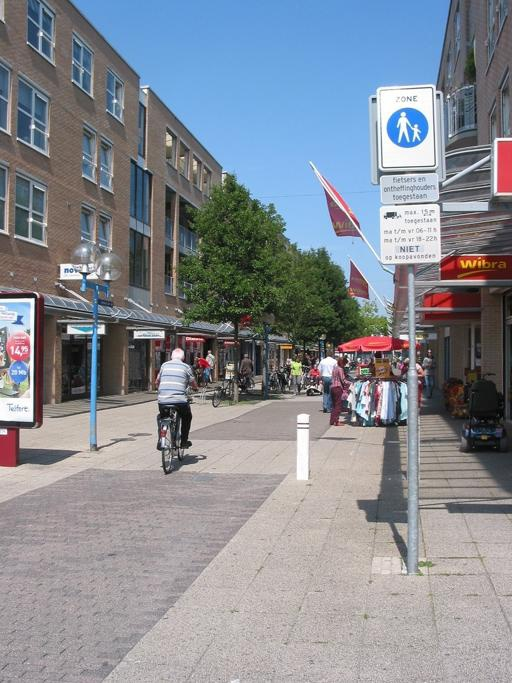non-vehicle: (152, 387, 200, 473), (212, 378, 240, 408)
